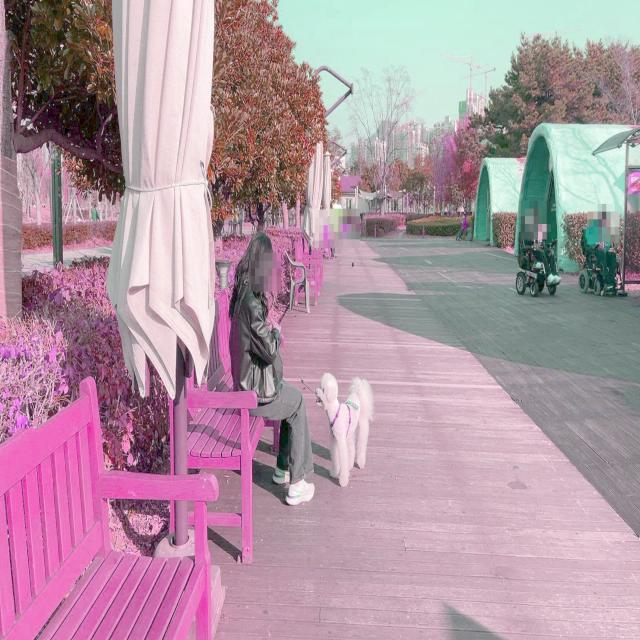Leashed_Dog: (269, 342, 375, 490)
